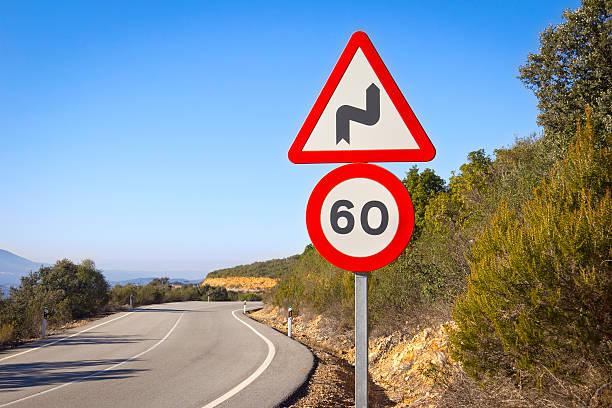Speed Limit -60-: (303, 161, 415, 273)
